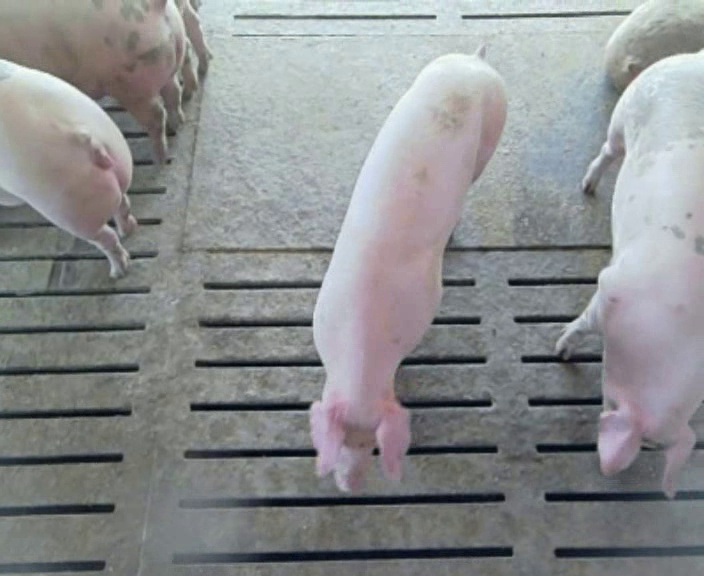pig: (311, 47, 505, 490), (556, 50, 703, 497), (0, 2, 185, 161), (605, 2, 703, 93)
